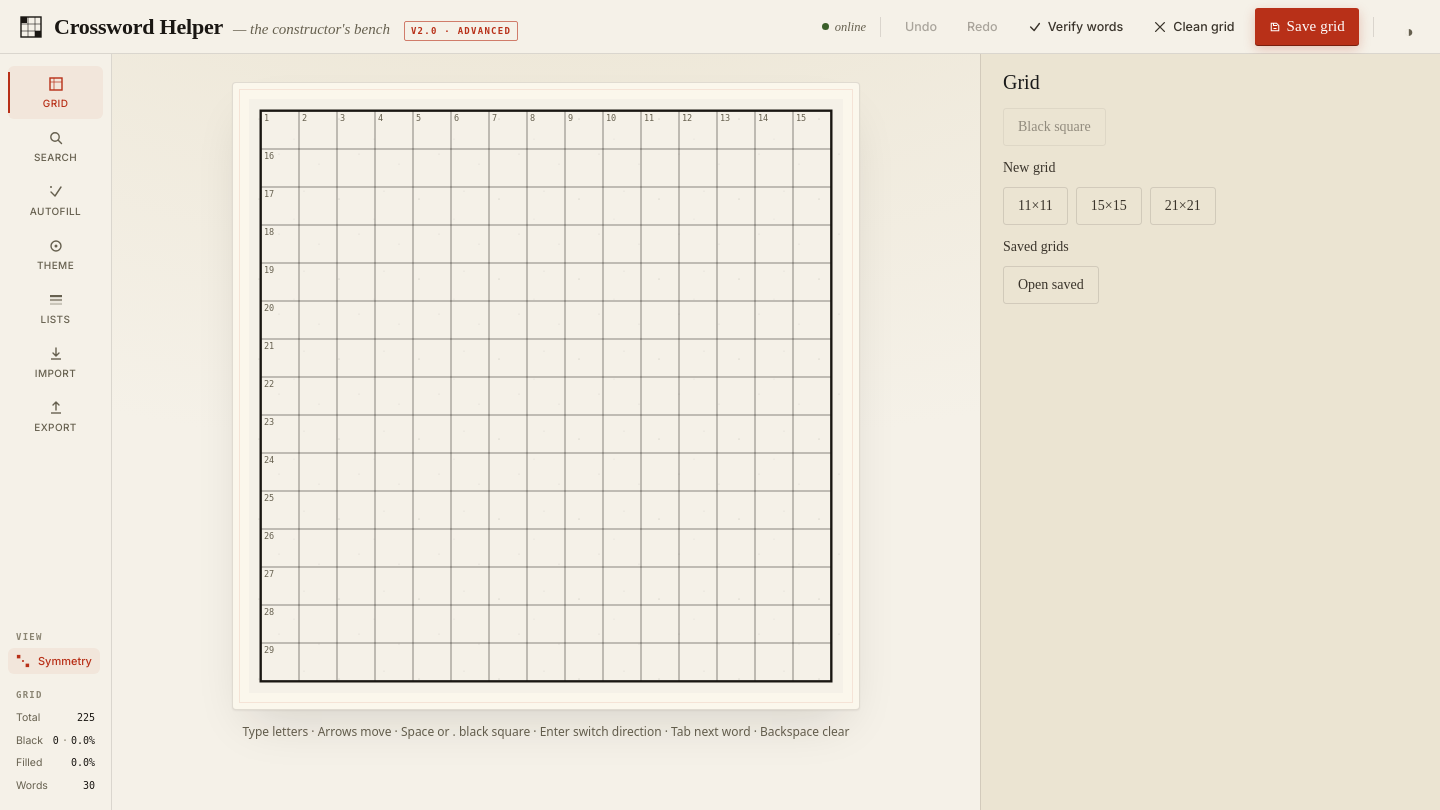
Open re-reads the entry by id (§3.4 Q1, G#77 GridPanel.jsx:88) › an entry that has gone away shows the list refreshed and adopts nothing
The width and height of the screenshot is (1440, 810).
Step 1. Click the button "Open saved" → x=1051, y=285, box [1003,266,1099,304]
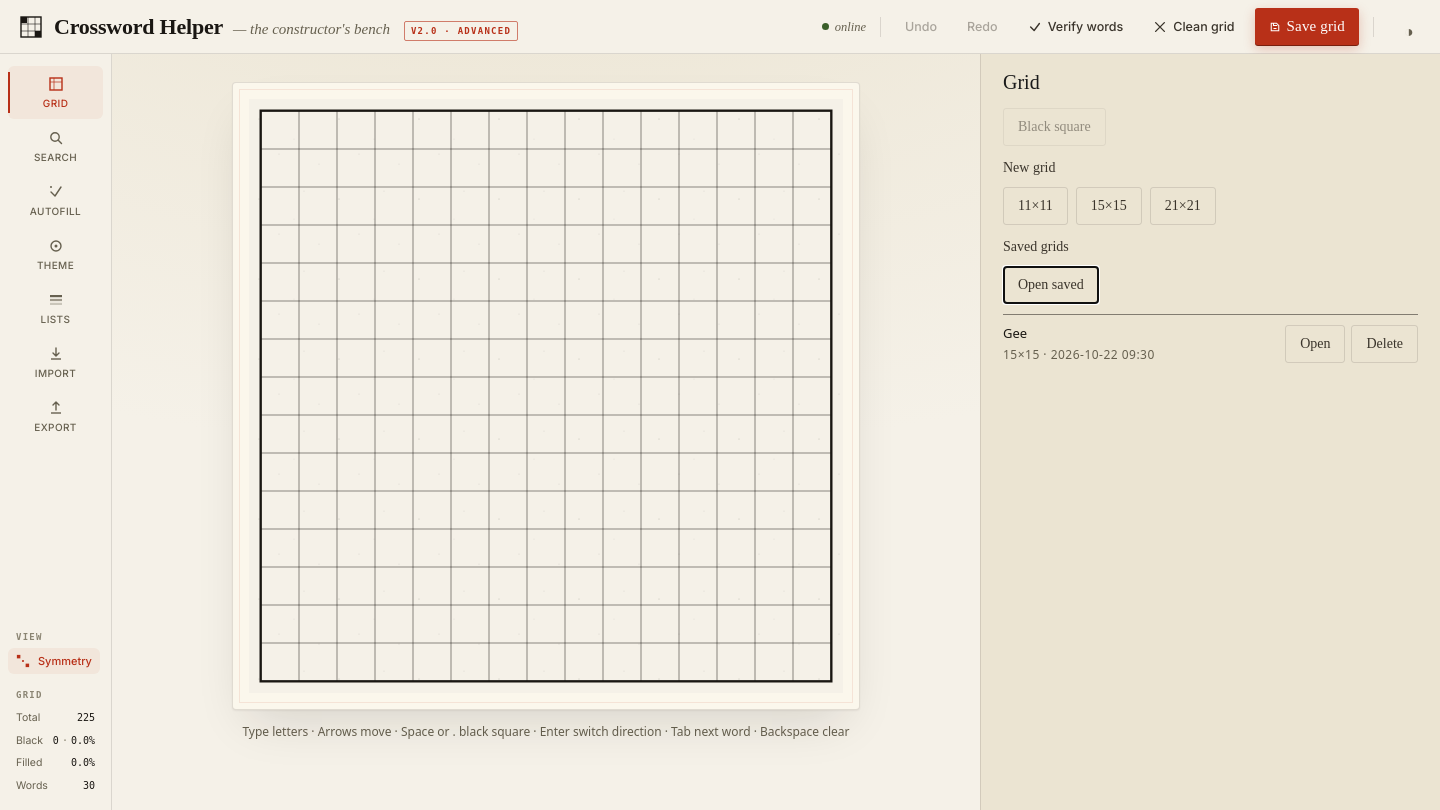
Result: the text "Gee" is shown at [1003,324,1027,342]
Step 2. Click the button "Open" → x=1315, y=344, box [1285,325,1345,363]
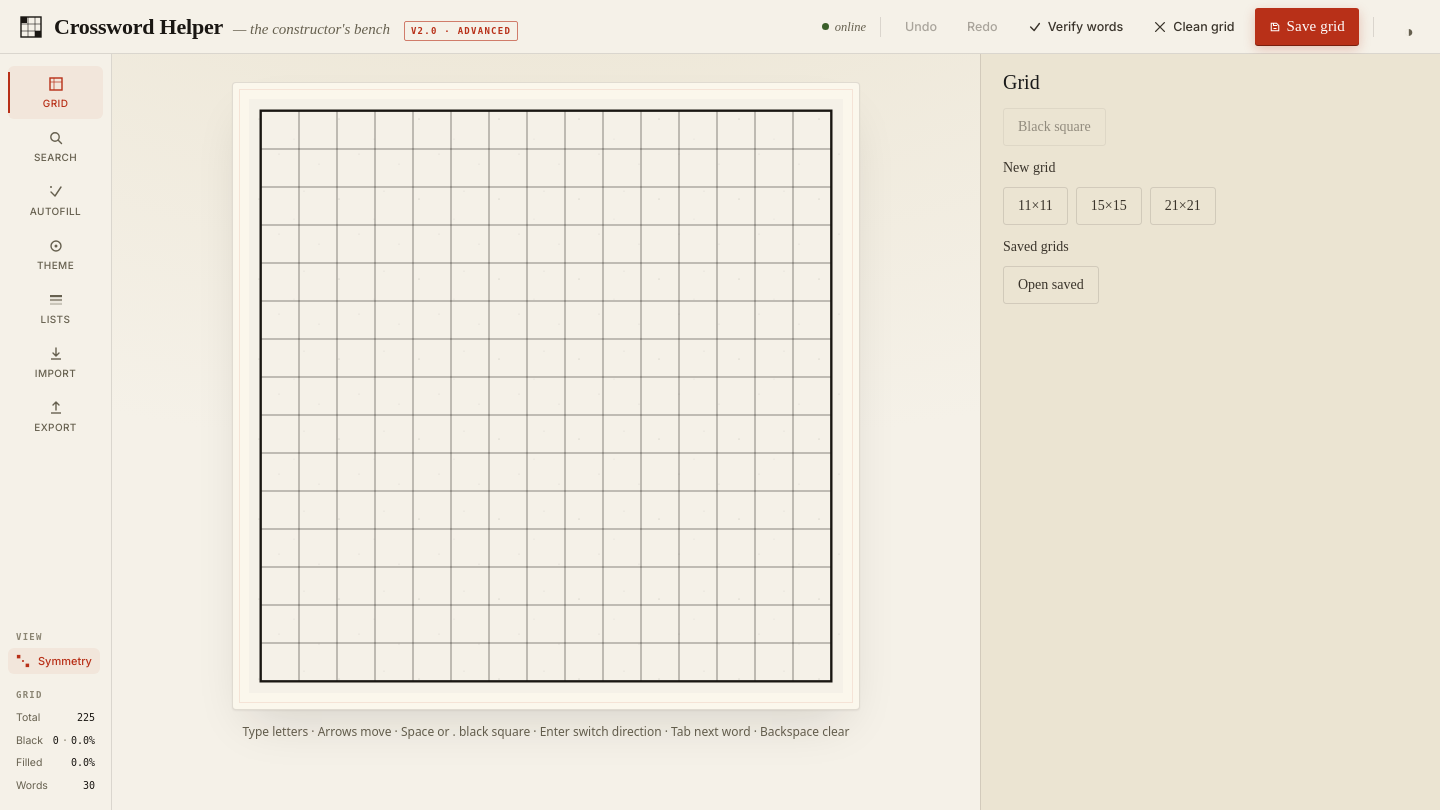
Result: the text "Gee" is gone
